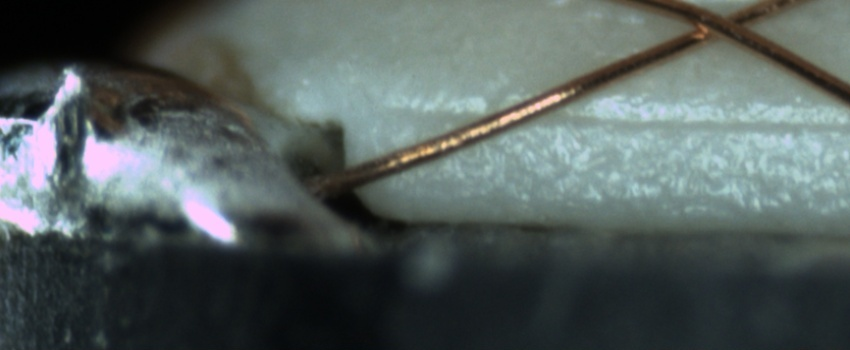CL: (676, 1, 766, 46)
DL: (375, 89, 850, 150)
